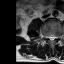CCS_severe_stenosis: (50, 33, 53, 43)
LFS_stenosis: (55, 33, 58, 40)
LLS_stenosis: (53, 33, 55, 41)
RFS_normal: (45, 32, 48, 40)
RLS_normal: (48, 33, 50, 41)
